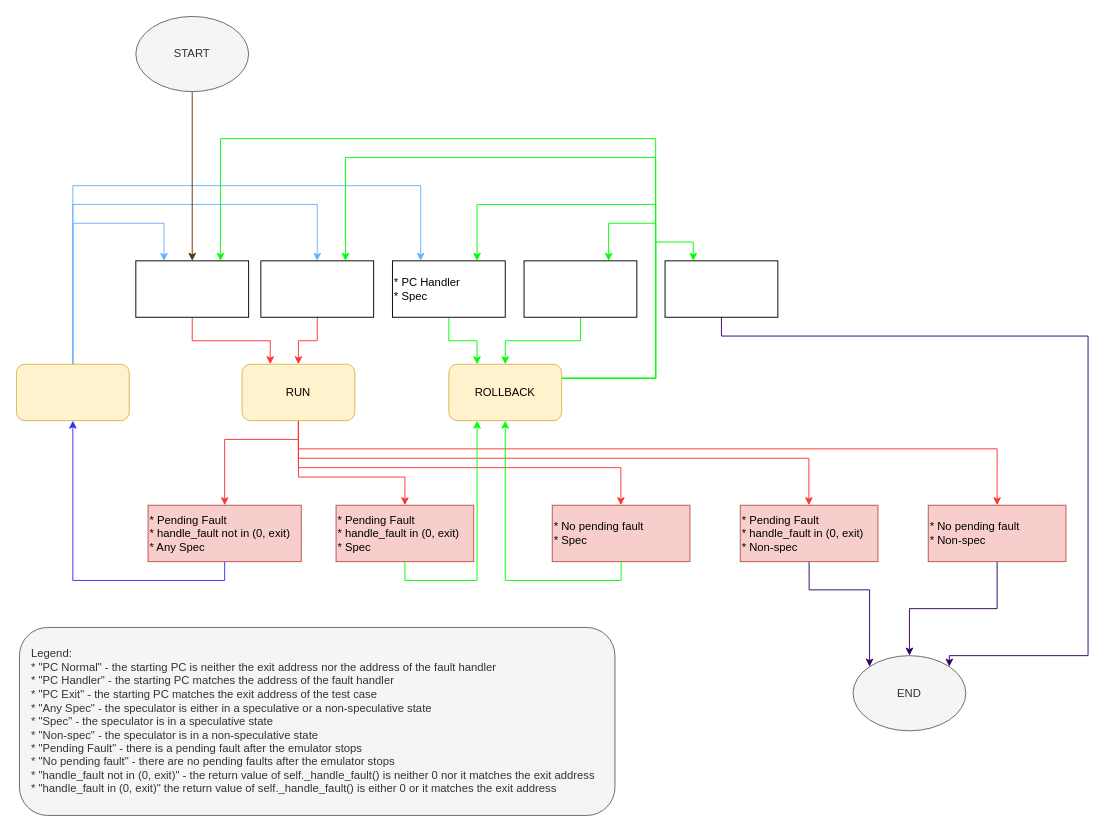
Image size: 1112x832. Some labels were removed from this diagram. The shapes that lost their labels are listed below. From the top down, each one's box as (x1, y1, x2, y2) in pixels, then its label:
(135, 260, 249, 317): * PC Normal * Any Spec
(260, 260, 374, 317): * PC Handler * Non-spec
(523, 260, 637, 317): * PC Exit * Spec
(664, 260, 778, 317): * PC Exit * Non-spec
(16, 363, 129, 421): UPDATE PC
